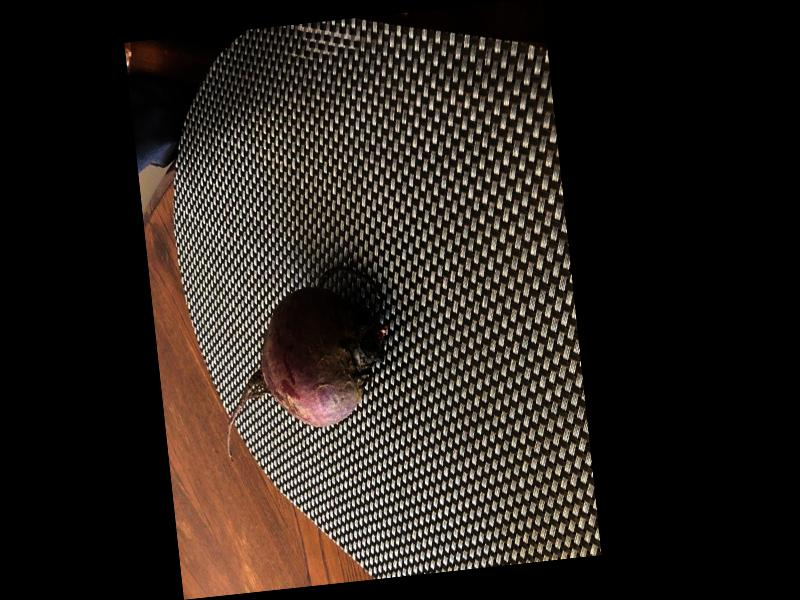Beet: (209, 260, 399, 459)
